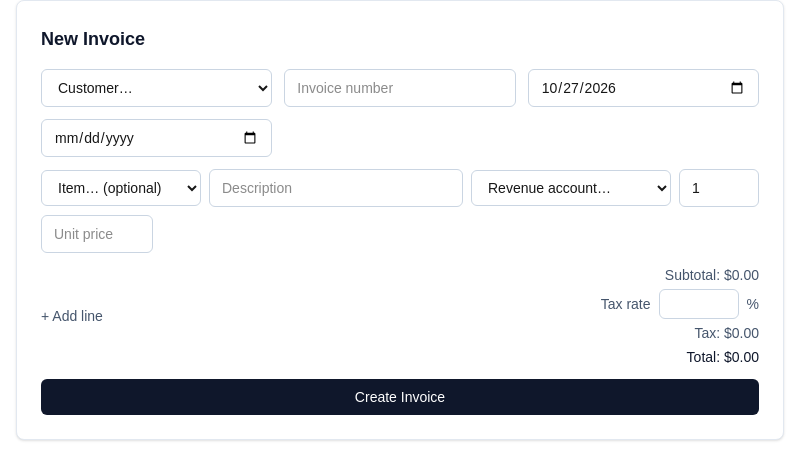
Test case: InvoiceForm › picking an item auto-fills description, revenue account, and unit price
The width and height of the screenshot is (801, 458).
Select "Widget" in the 2nd dropdown. click: x=121, y=188
box: [41, 170, 201, 206]
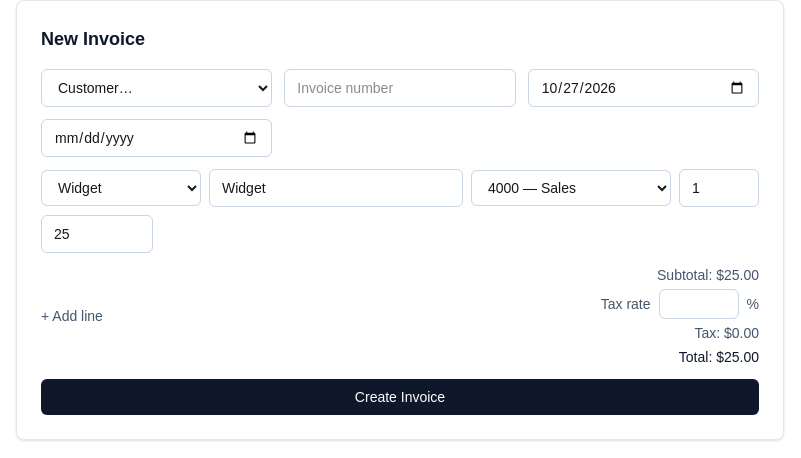
Expected: the field with placeholder "Description" holds "Widget", [209, 169, 463, 207]
Expected: the 2nd number field with placeholder "Unit price" holds "25", [41, 215, 153, 253]
Expected: the 3rd dropdown shows "4000 — Sales", [471, 170, 671, 206]
